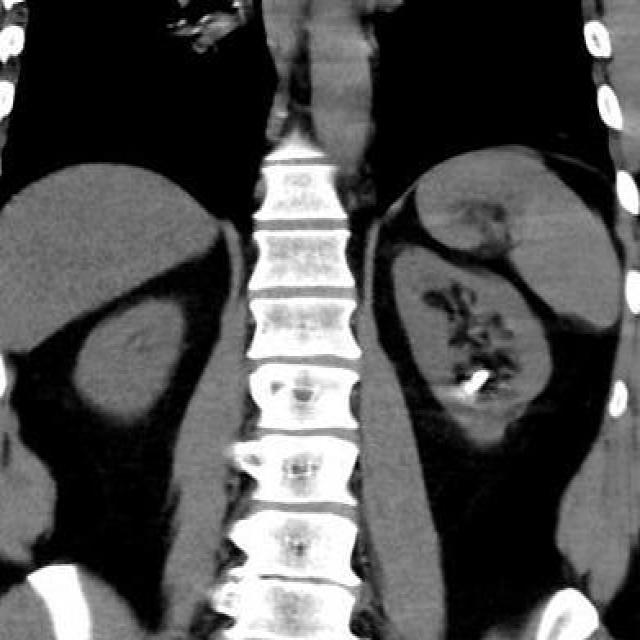Tas_Var: (462, 368, 491, 398)
